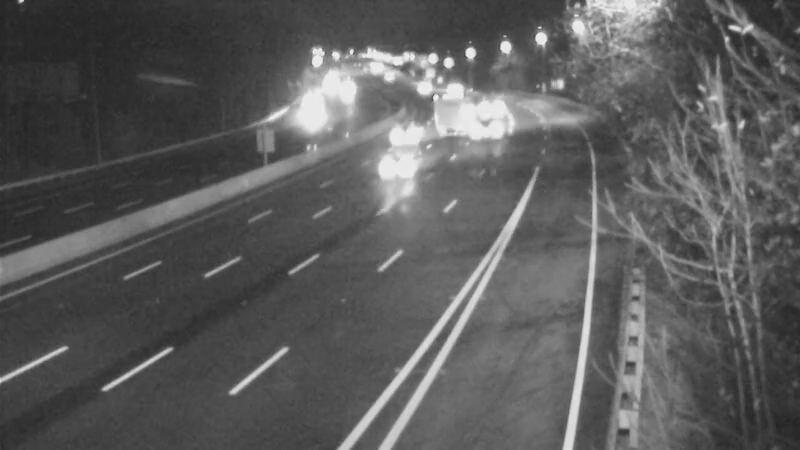vehicle: (363, 125, 443, 205), (394, 63, 444, 113), (425, 64, 475, 114), (464, 83, 514, 133), (425, 85, 475, 135), (461, 109, 511, 159), (389, 105, 439, 155), (290, 87, 340, 137), (318, 68, 368, 118)
